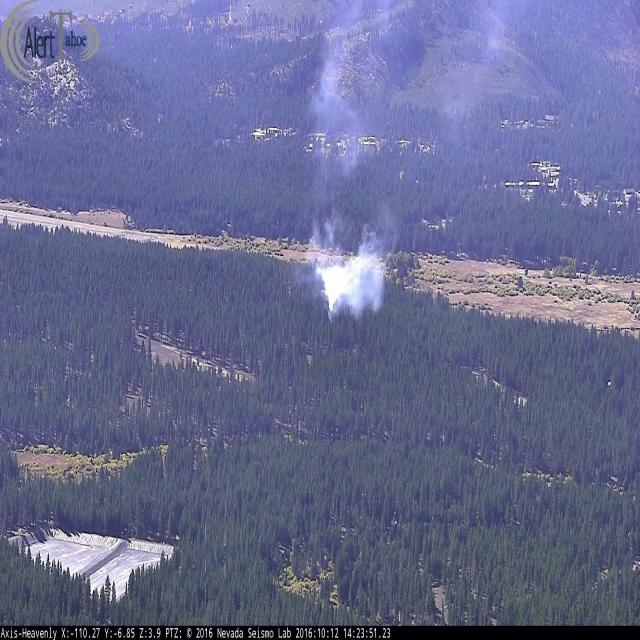smoke: (294, 25, 432, 329)
